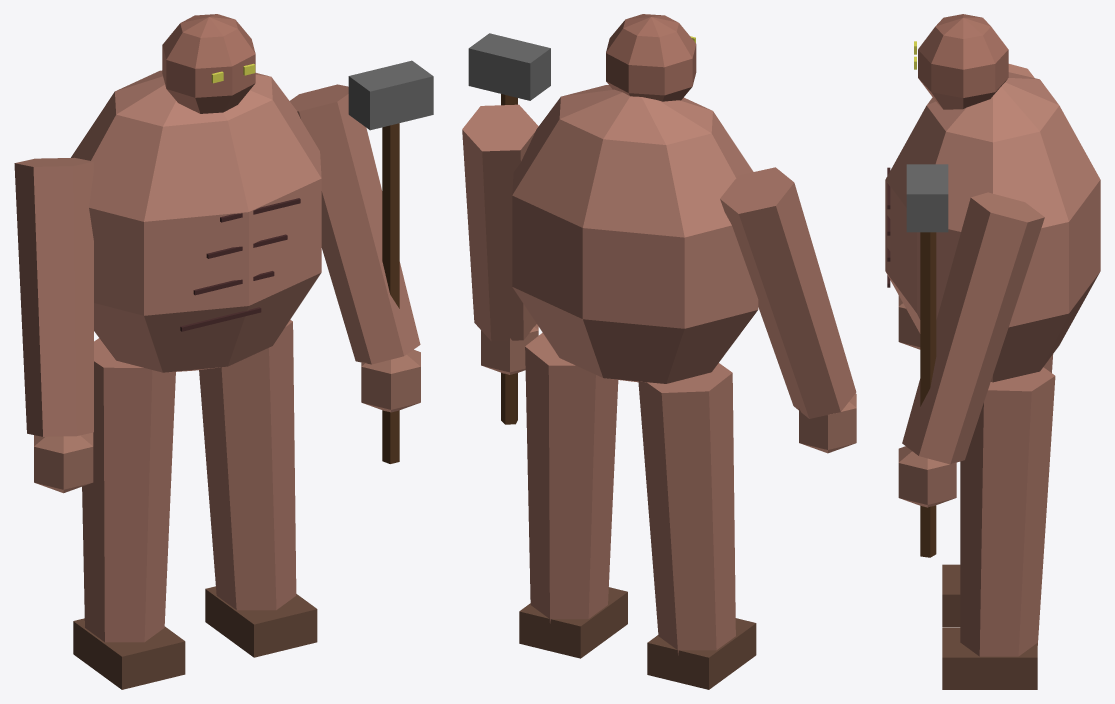
Rendered from fleischriese.glb.
3 renders of one model, left to right at view 1: azimuth 30°, elevation 25°; view 2: azimuth 150°, elevation 25°; view 3: azimuth 270°, elevation 25°, orthographic. The views are drawn at different scales.
Size of the model in its own units: 1.47 by 2.32 by 0.7228.
1 material, 1 textured.
